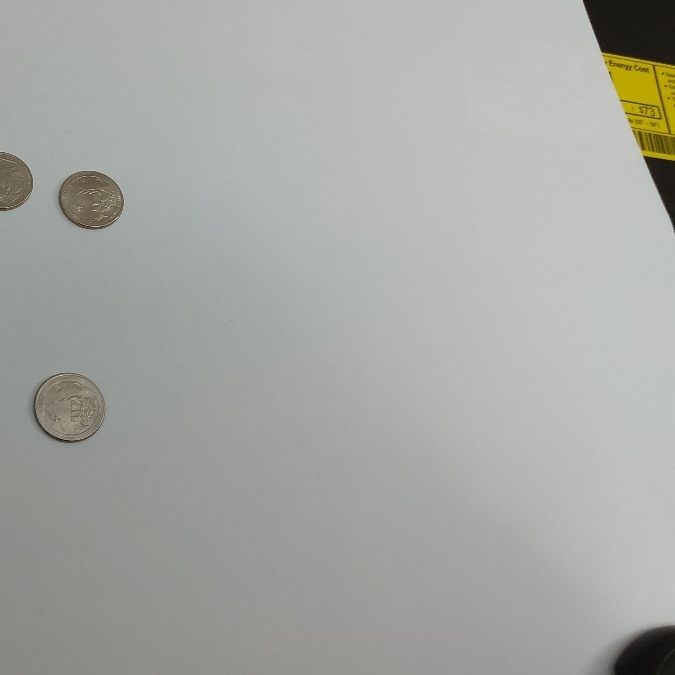coin_quarter: (32, 368, 107, 443), (51, 167, 127, 233)
